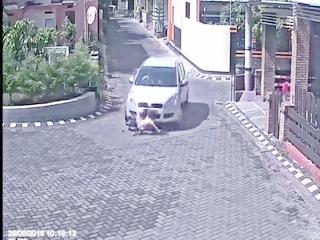Car: (123, 56, 188, 122)
Minor Accident: (120, 54, 190, 133)
Motor: (128, 115, 169, 133)
